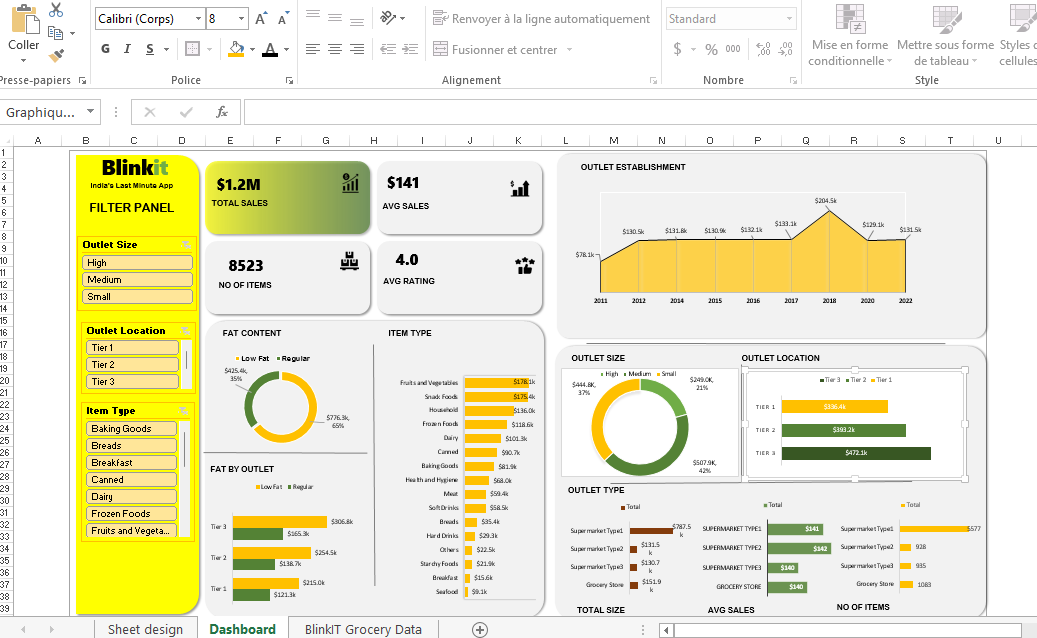

What the dashboard file says about the page in this screenshot:
{"tool":"powerbi","page":{"name":"Page 1","canvas":[1400,800],"ordinal":0},"visuals":[{"type":"shape","box":[9.6,11.2,204.8,750.4],"z":0},{"type":"textbox","box":[20.8,25.6,182.4,54.4],"z":1000},{"type":"textbox","box":[20,80,183.3,35],"z":2000},{"type":"cardVisual","fields":{"Data":["BlinkIT Grocery Data.Total_Sales","BlinkIT Grocery Data.Avg Sales","BlinkIT Grocery Data.No of Items","BlinkIT Grocery Data.Avg Rating"]},"box":[227.2,11.2,569.6,270.4],"z":3000},{"type":"shape","box":[227,281,554,500],"z":4000},{"type":"donutChart","title":"FAT CONTENT","fields":{"Y":["BlinkIT Grocery Data.Avg Sales"],"Category":["BlinkIT Grocery Data.Item Fat Content"]},"box":[244.8,336,220.8,230.4],"z":5000},{"type":"slicer","fields":{"Values":["Metrics.Metrics"]},"box":[278.4,296,464,40],"z":6000},{"type":"cardVisual","fields":{"Data":["BlinkIT Grocery Data.Avg Sales"]},"box":[300.8,451.2,108.8,68.8],"z":6001},{"type":"clusteredBarChart","title":"FAT BY OUTLET","fields":{"Y":["BlinkIT Grocery Data.Avg Sales"],"Category":["BlinkIT Grocery Data.Outlet Location Type"],"Series":["BlinkIT Grocery Data.Item Fat Content"]},"box":[244.8,553.6,220.8,228.8],"z":6002},{"type":"shape","box":[244.8,542.4,209.6,20.8],"z":6003},{"type":"shape","box":[465.6,347.2,38.4,414.4],"z":6004},{"type":"barChart","title":"ITEM TYPE","fields":{"Category":["BlinkIT Grocery Data.Item Type"],"Y":["BlinkIT Grocery Data.Avg Sales"]},"box":[485,341.7,281.7,426.7],"z":6005},{"type":"shape","box":[780,11.7,600,770],"z":6006},{"type":"lineChart","title":"OUTLET ESTABLISHMENT","fields":{"Category":["BlinkIT Grocery Data.Outlet Establishment Year"],"Y":["BlinkIT Grocery Data.Total_Sales"]},"box":[796.7,40,558.3,231.7],"z":6007},{"type":"shape","box":[810,260,526.7,21.7],"z":6008},{"type":"donutChart","title":"OUTLET SIZE","fields":{"Y":["BlinkIT Grocery Data.Total_Sales"],"Category":["BlinkIT Grocery Data.Outlet Size"]},"box":[796.7,281.7,272,225],"z":6009},{"type":"shape","box":[1038.3,281.7,38.3,230],"z":6010},{"type":"funnel","title":"OUTLET LOCATION","fields":{"Category":["BlinkIT Grocery Data.Outlet Location Type"],"Y":["Sum(BlinkIT Grocery Data.Sales)"]},"box":[1066.7,271.7,288.3,230],"z":6011},{"type":"shape","box":[805,510,526.7,21.7],"z":6012},{"type":"pivotTable","title":"OUTLET TYPE","fields":{"Rows":["BlinkIT Grocery Data.Outlet Type"],"Values":["BlinkIT Grocery Data.Total_Sales","BlinkIT Grocery Data.No of Items","BlinkIT Grocery Data.Avg Sales","BlinkIT Grocery Data.Avg Rating","Avg(BlinkIT Grocery Data.Item Visibility)"]},"box":[796.7,541.7,570,220],"z":6013},{"type":"slicer","fields":{"Values":["BlinkIT Grocery Data.Outlet Location Type"]},"box":[10,218.3,205,81.7],"z":6014},{"type":"slicer","fields":{"Values":["BlinkIT Grocery Data.Outlet Size"]},"box":[10,315,205,81.7],"z":6015},{"type":"slicer","fields":{"Values":["BlinkIT Grocery Data.Item Type"]},"box":[8.3,410,205,81.7],"z":6016},{"type":"textbox","box":[80,168.3,93.3,31.7],"z":6017}]}

Visuals, with their boxes on the page's 1400x800 design canvas (x1, y1, x2, y2). These are canvas units, not pixel positions in the 1037x638 screenshot, which may show the page scaled, cropped or inside an application window:
shape: x1=10, y1=11, x2=214, y2=762
textbox: x1=21, y1=26, x2=203, y2=80
textbox: x1=20, y1=80, x2=203, y2=115
cardVisual - BlinkIT Grocery Data.Total_Sales x BlinkIT Grocery Data.Avg Sales: x1=227, y1=11, x2=797, y2=282
shape: x1=227, y1=281, x2=781, y2=781
"FAT CONTENT" donutChart: x1=245, y1=336, x2=466, y2=566
slicer - Metrics.Metrics: x1=278, y1=296, x2=742, y2=336
cardVisual - BlinkIT Grocery Data.Avg Sales: x1=301, y1=451, x2=410, y2=520
"FAT BY OUTLET" clusteredBarChart: x1=245, y1=554, x2=466, y2=782
shape: x1=245, y1=542, x2=454, y2=563
shape: x1=466, y1=347, x2=504, y2=762
"ITEM TYPE" barChart: x1=485, y1=342, x2=767, y2=768
shape: x1=780, y1=12, x2=1380, y2=782
"OUTLET ESTABLISHMENT" lineChart: x1=797, y1=40, x2=1355, y2=272
shape: x1=810, y1=260, x2=1337, y2=282
"OUTLET SIZE" donutChart: x1=797, y1=282, x2=1069, y2=507
shape: x1=1038, y1=282, x2=1077, y2=512
"OUTLET LOCATION" funnel: x1=1067, y1=272, x2=1355, y2=502
shape: x1=805, y1=510, x2=1332, y2=532
"OUTLET TYPE" pivotTable: x1=797, y1=542, x2=1367, y2=762
slicer - BlinkIT Grocery Data.Outlet Location Type: x1=10, y1=218, x2=215, y2=300
slicer - BlinkIT Grocery Data.Outlet Size: x1=10, y1=315, x2=215, y2=397
slicer - BlinkIT Grocery Data.Item Type: x1=8, y1=410, x2=213, y2=492
textbox: x1=80, y1=168, x2=173, y2=200
